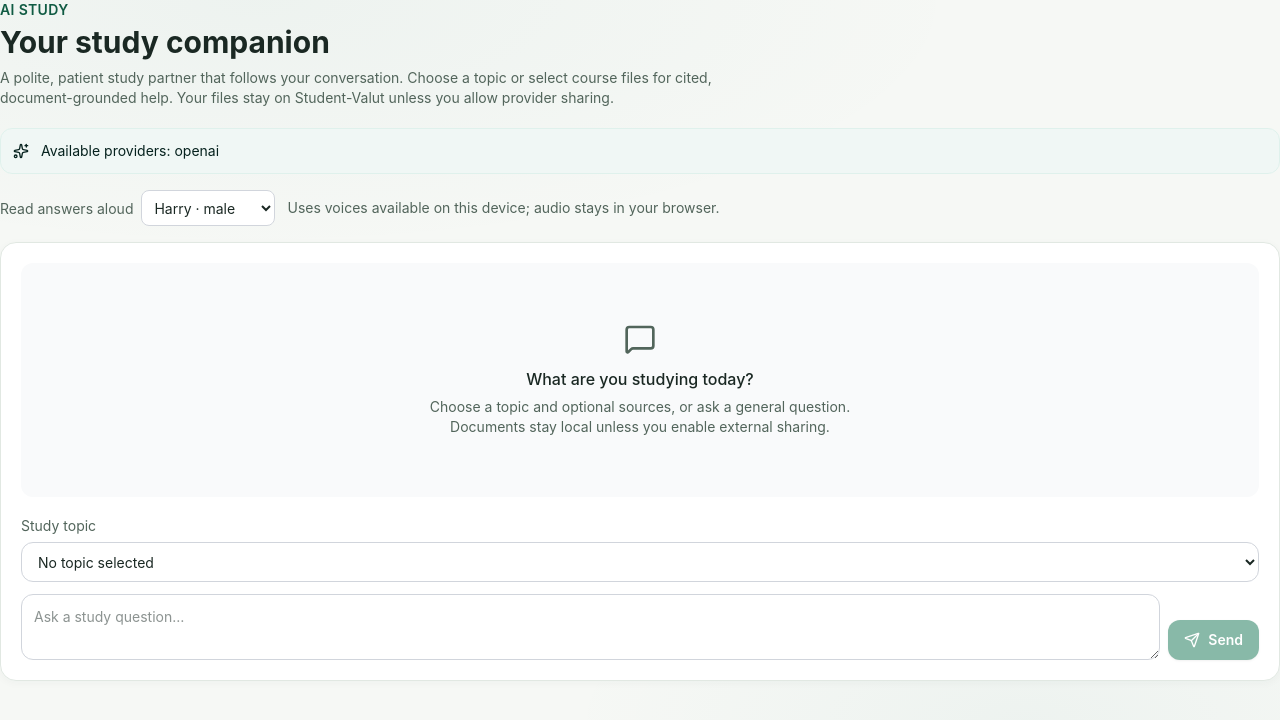
Test: AIPage › offers video references for the current doubt and selected topic
Expected: the text "Available providers: openai" is shown, [41, 141, 219, 161]
Select "Math: Fractions" in the dropdown labelled "Study topic". click: (640, 562)
box: [21, 542, 1259, 582]
(page scrolled)
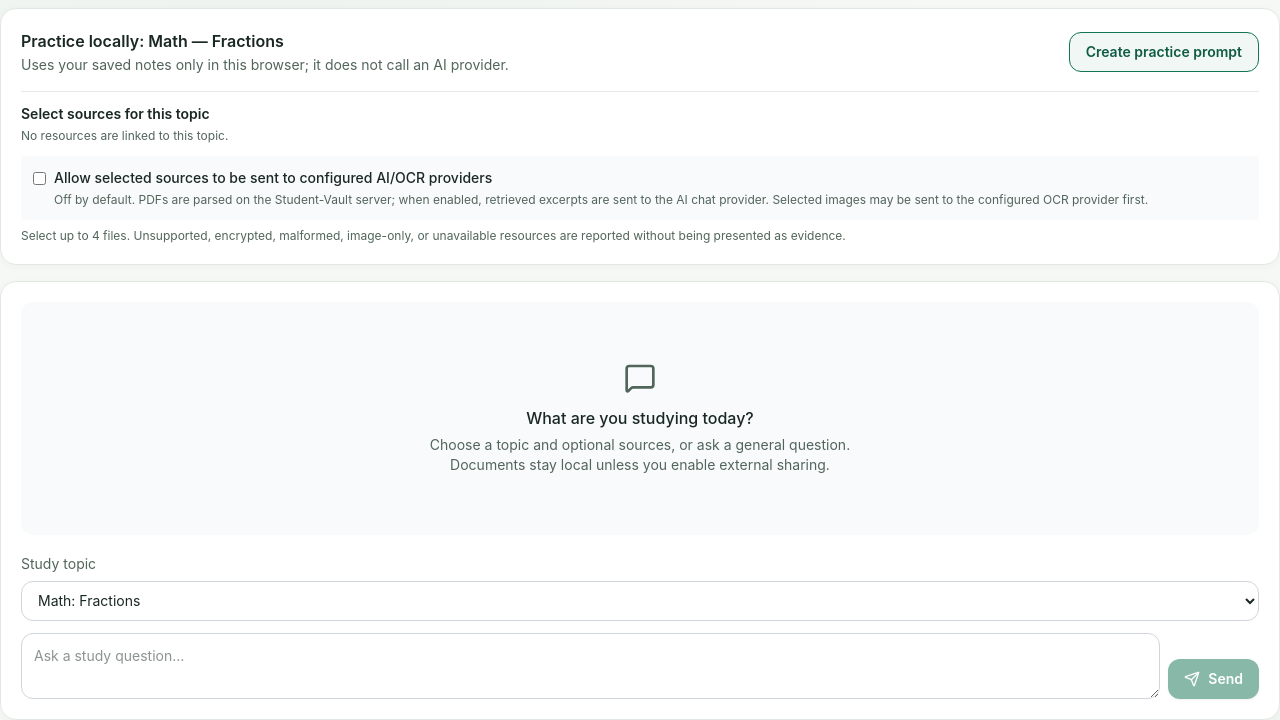
Type "Why use a common denominator?" into the text box named "Your study question". click: (591, 666)
box: [21, 633, 1160, 699]
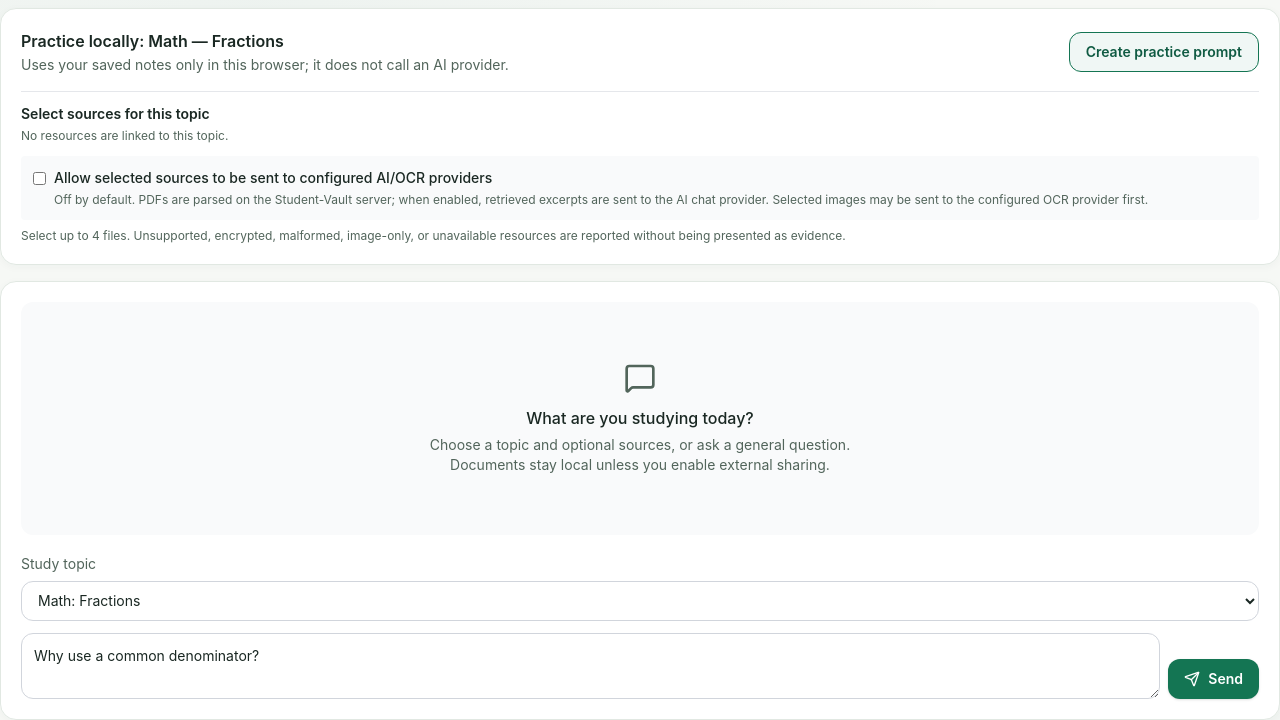
Click the button with aria-label "Send question". click: (1214, 679)
box: [1168, 659, 1259, 699]
(page scrolled)
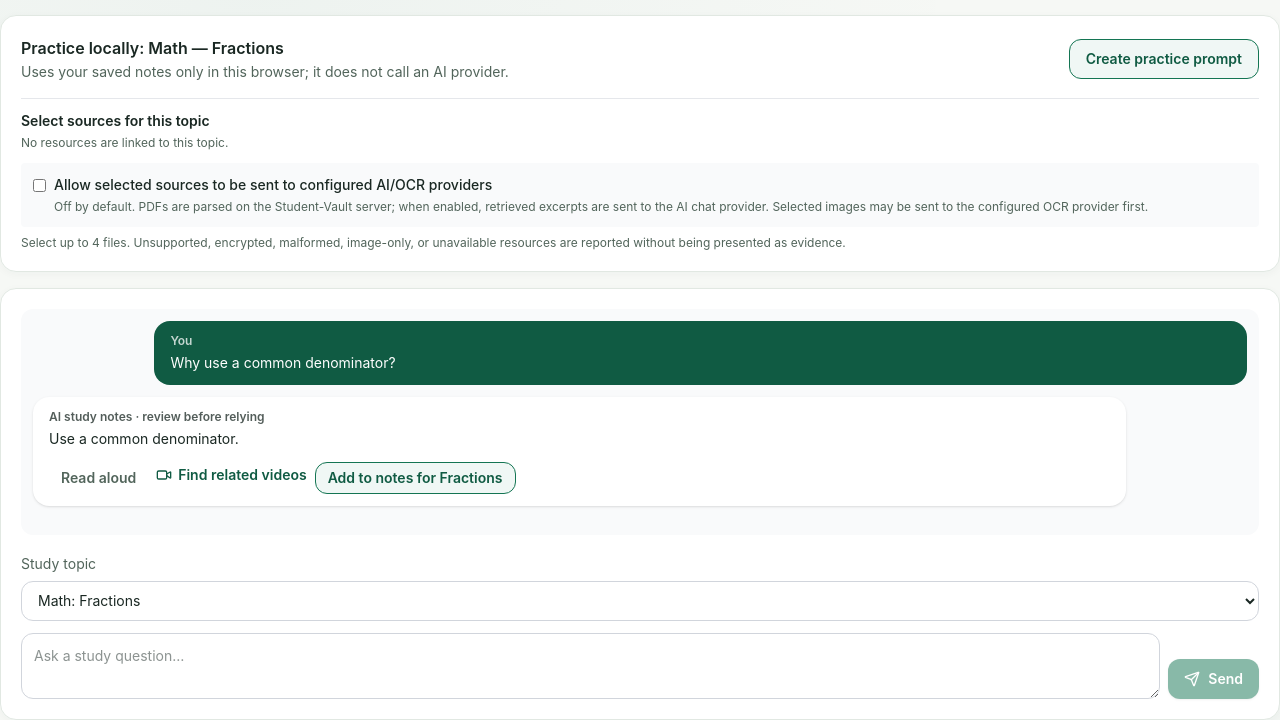
Result: the text "Use a common denominator." is shown at [49, 430, 239, 447]
